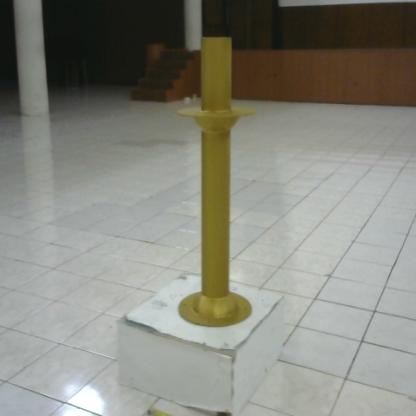pole: (177, 29, 261, 332)
